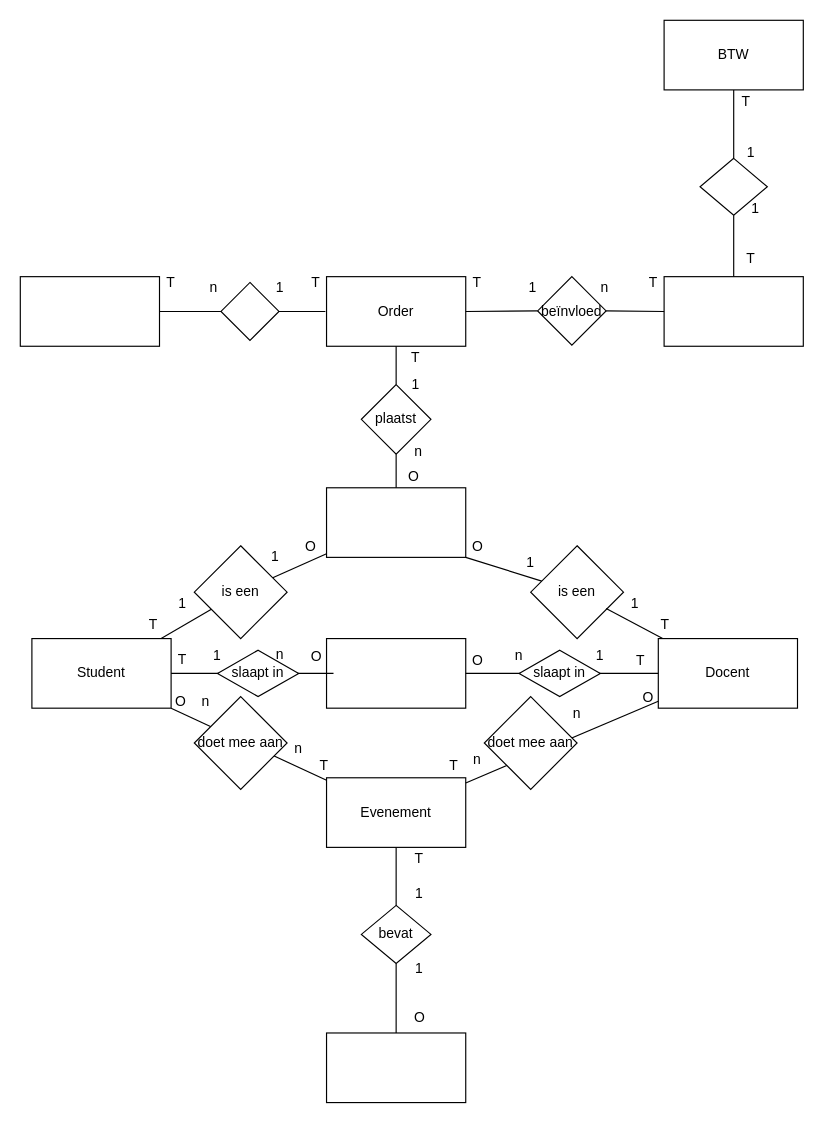
Image size: 824x1123. Some labels were removed from this diagram. The shapes that lost their labels are listed below. From the top down, each one's box as (x1, y1, x2, y2) in pixels, then its label:
(699, 157, 767, 215): heeft
(19, 276, 160, 346): Omzet
(220, 281, 279, 340): geeft
(663, 276, 803, 346): Voorraad
(325, 487, 466, 557): Persoon
(325, 637, 466, 708): Kamer
(325, 1032, 466, 1103): Activiteit
